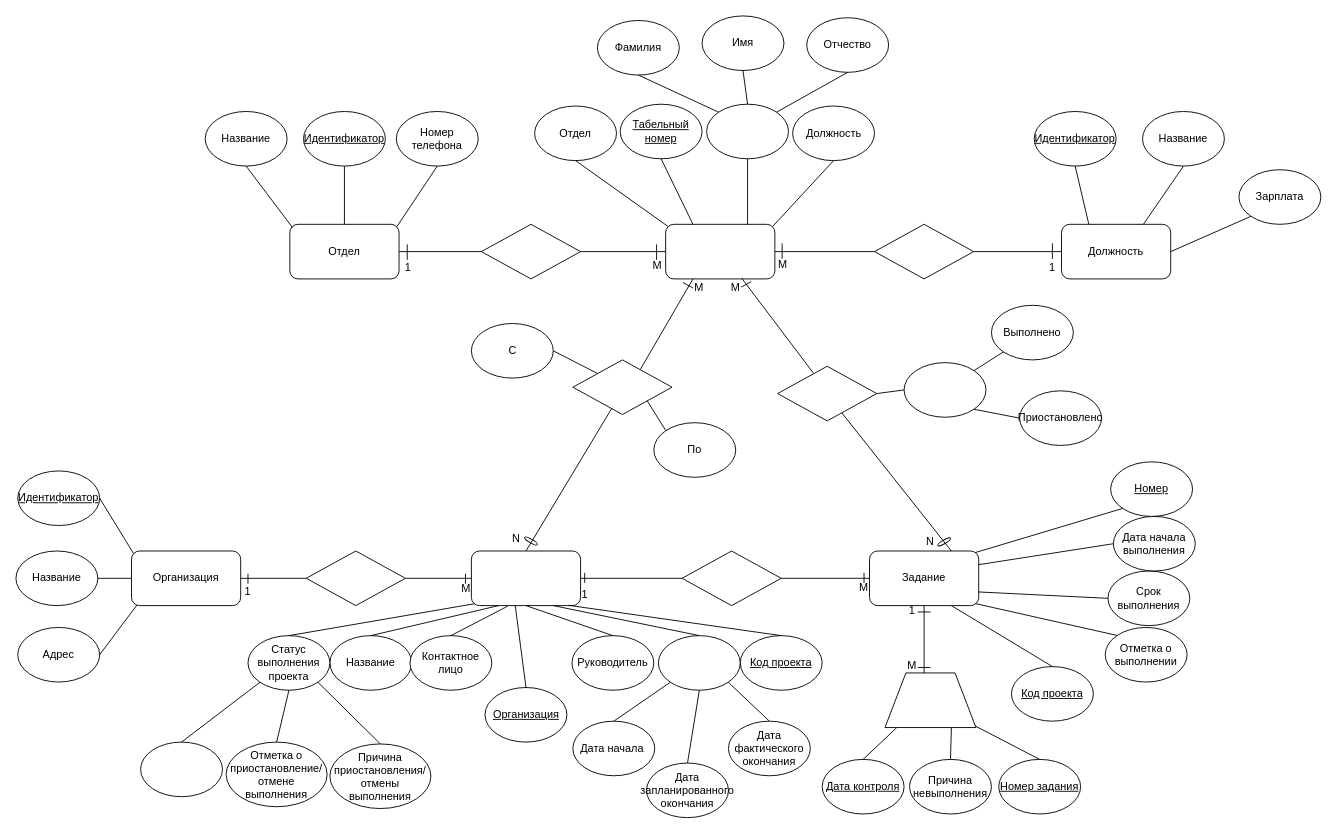
The diagram is 1337 pixels wide and 834 high, and some of its shapes have lost their labels. The shapes that lost their labels are listed below. From the top down, each one's centre as x and y in pixels, then its label:
At [747,131]: "ФИО".
At [530,251]: "Числит".
At [720,251]: "Сотрудник".
At [924,251]: "Занимает".
At [622,387]: "Руководит".
At [827,393]: "Выполняет".
At [944,389]: "Статус выполнения".
At [355,578]: "Заказывает".
At [525,578]: "Проект".
At [731,578]: "Состоит".
At [698,662]: "Сроки выполнения".
At [930,700]: "Контроль".
At [181,769]: "Отметка об оплате".
